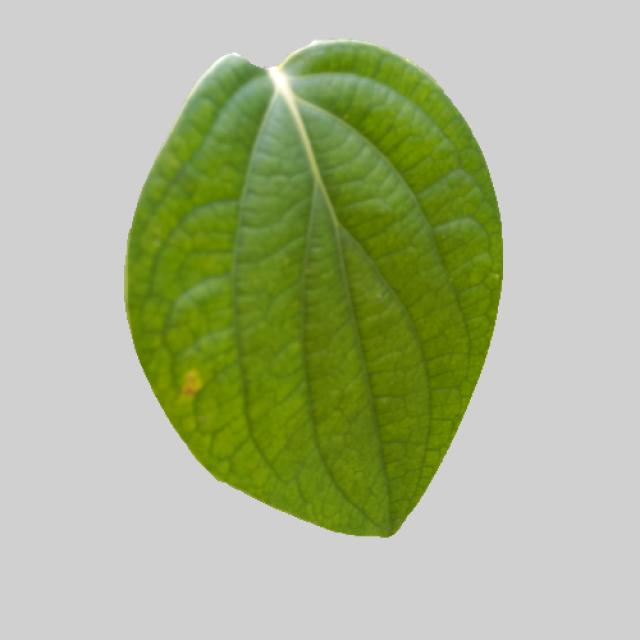healthy: (118, 39, 514, 547)
